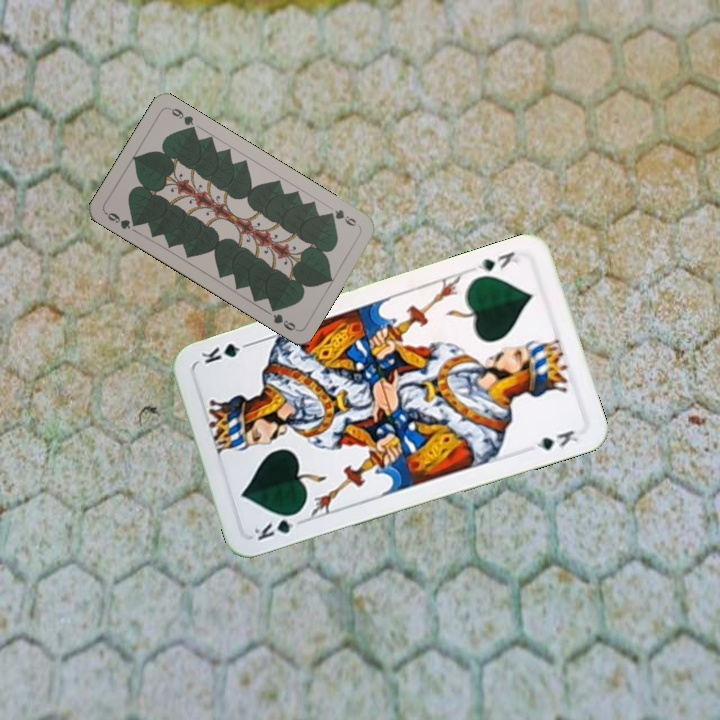G9: (101, 208, 141, 232), (323, 205, 359, 229)
GK: (250, 508, 307, 543), (472, 247, 524, 274)
